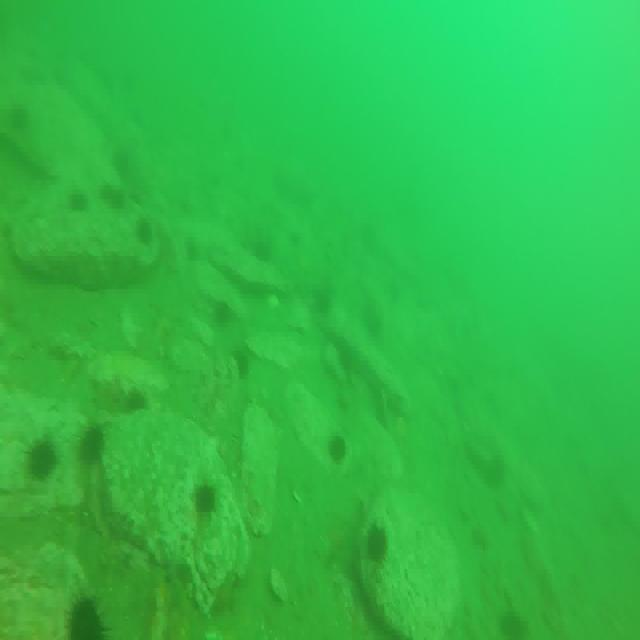echinus: (68, 592, 104, 640), (28, 436, 56, 483), (79, 421, 103, 470), (498, 603, 528, 640), (366, 521, 388, 565), (196, 482, 217, 524), (364, 306, 384, 345), (312, 281, 333, 316), (330, 435, 348, 470), (126, 386, 147, 415), (233, 346, 250, 379), (137, 219, 154, 248), (108, 185, 124, 212), (70, 190, 88, 213)
